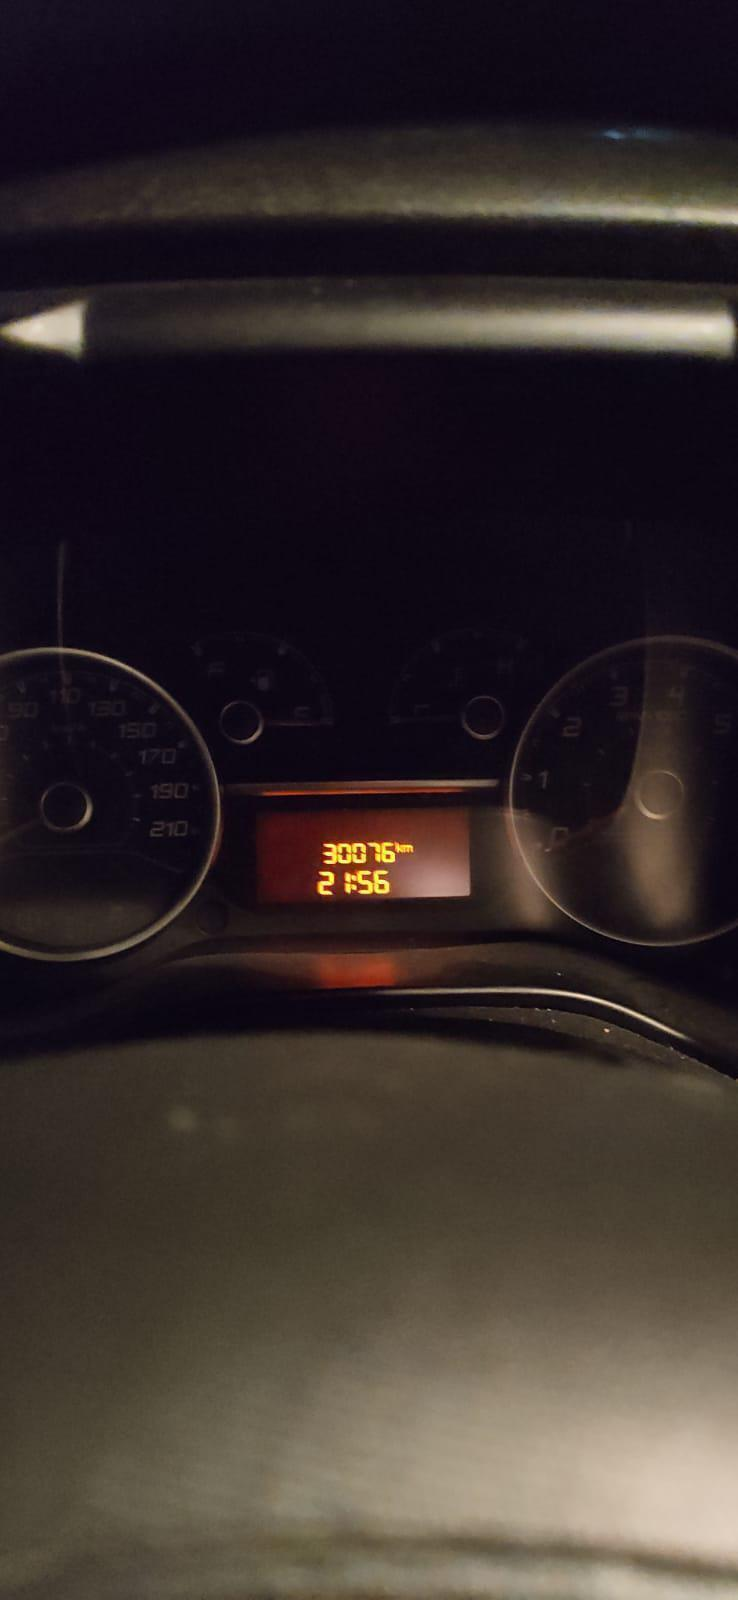0: (352, 841, 367, 864), (337, 842, 351, 864)
1: (341, 870, 352, 895)
2: (317, 870, 335, 896)
3: (322, 842, 337, 864)
5: (357, 869, 374, 894)
6: (373, 869, 391, 895), (381, 841, 396, 863)
7: (367, 840, 381, 862)
X: (403, 843, 415, 853), (395, 841, 405, 852), (352, 873, 356, 891)
odometer: (249, 803, 473, 898)
